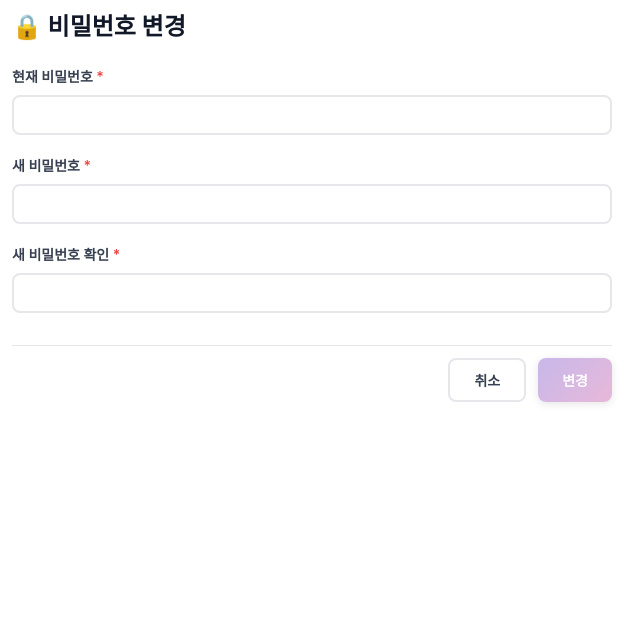
Test case: PasswordChange Component › 렌더링 및 기본 기능 › 비밀번호 강도 표시기 작동
Type "Test123!" into the 2nd password field at (312, 204), box [12, 184, 612, 224]
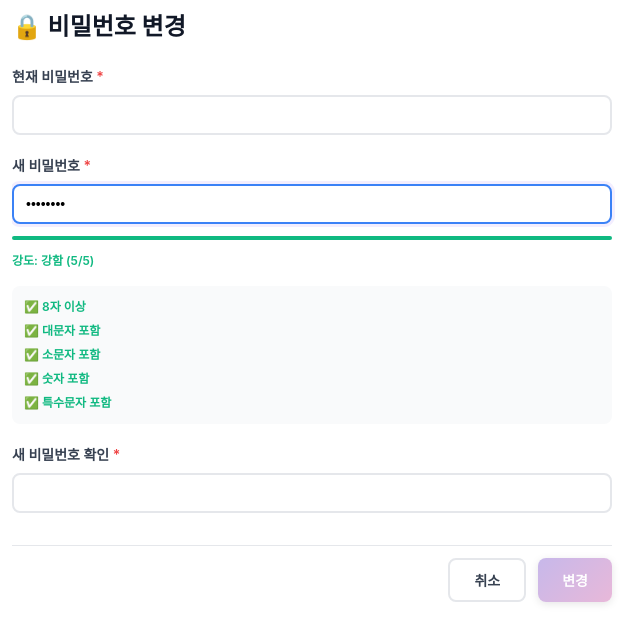
Now the text "강도: 강함 (5/5)" is shown, box [12, 253, 94, 268]
